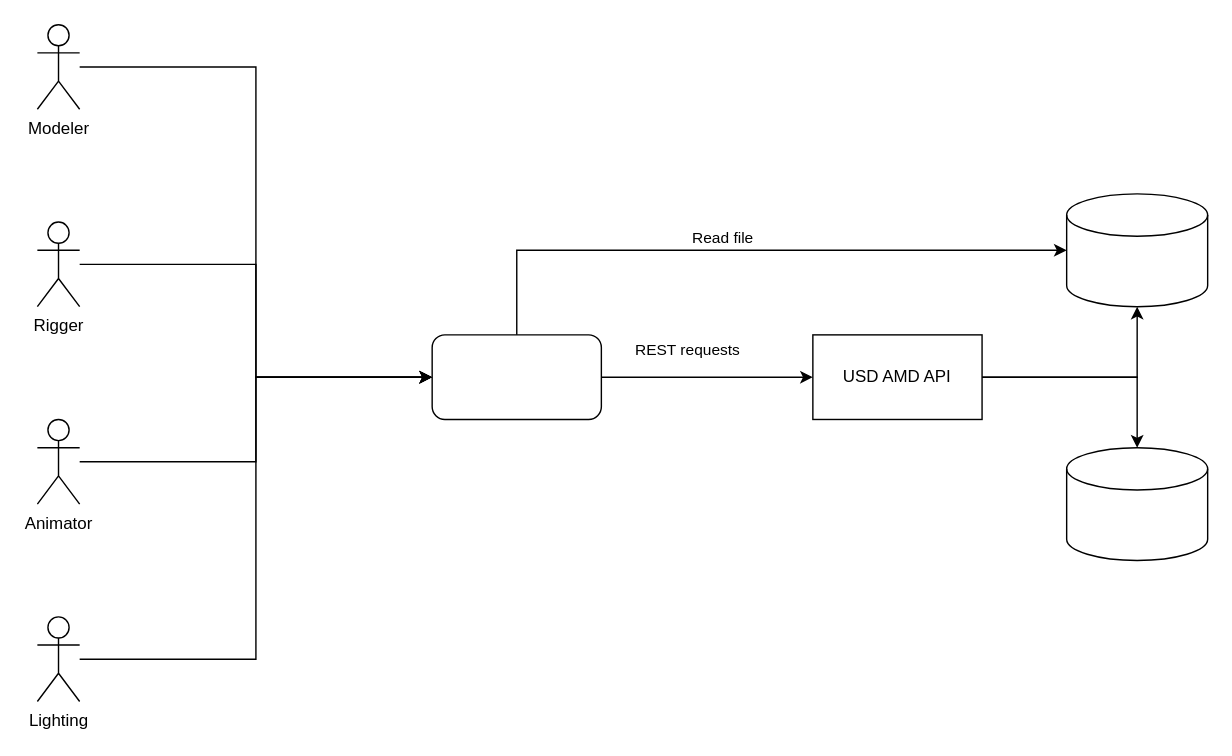
Some shapes in this 1232 by 756 pixel diagram are drawn without their labels. The shapes that lost their labels are listed below. From the top down, each one's centre as x and y in pixels, then its label:
(x=1136, y=249): Tract/Metadata Database
(x=516, y=376): DCC
(x=1136, y=503): File System
